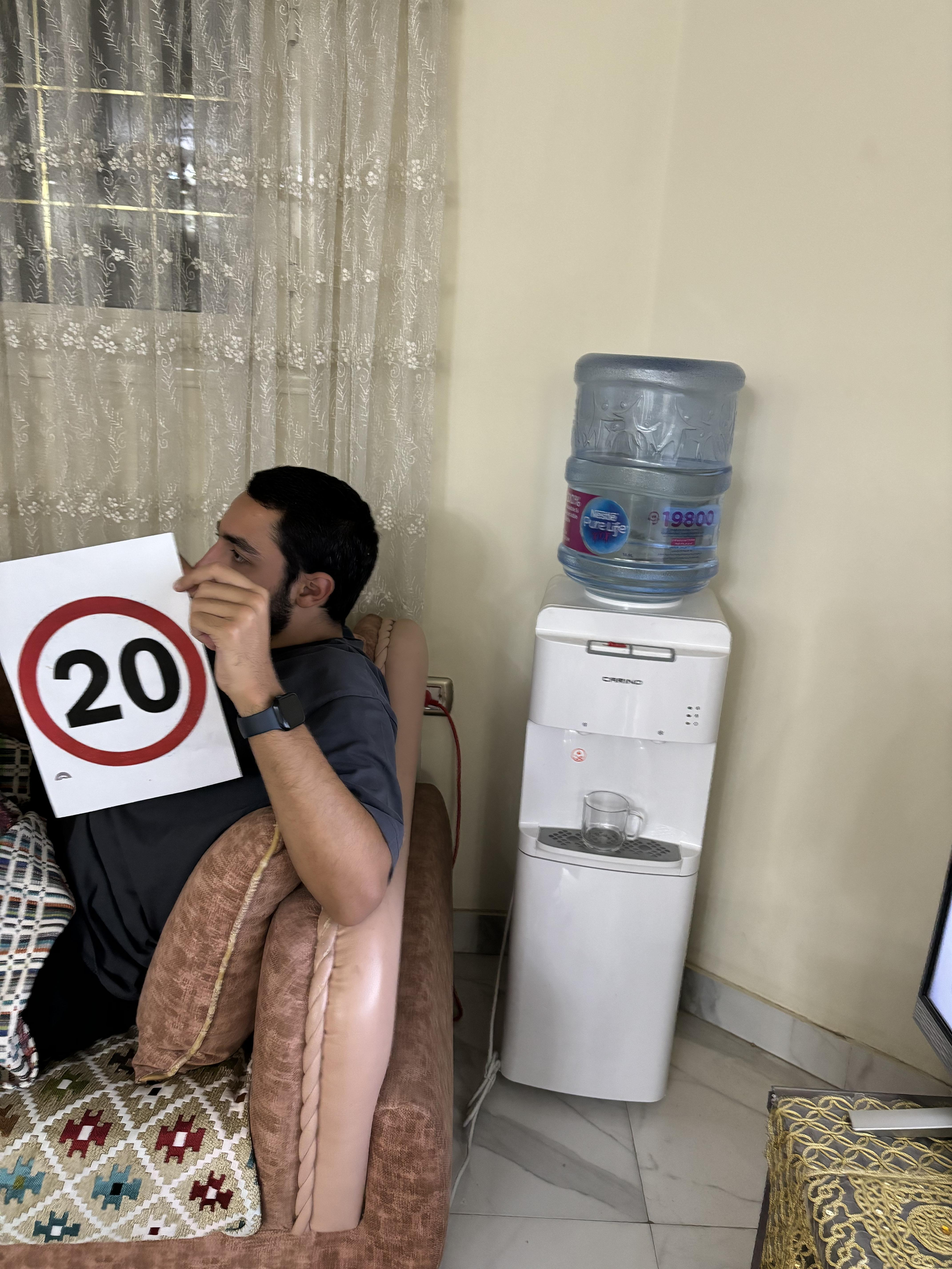20-Speed: (12, 607, 216, 758)
